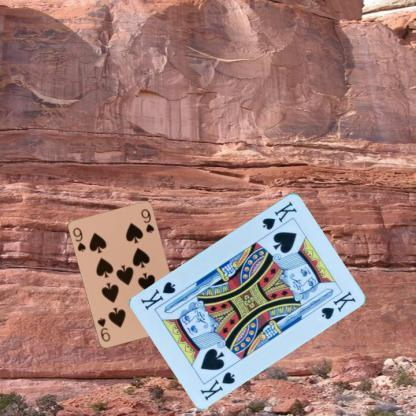9s: (70, 225, 88, 252)
Ks: (259, 198, 299, 232), (198, 368, 236, 402)
